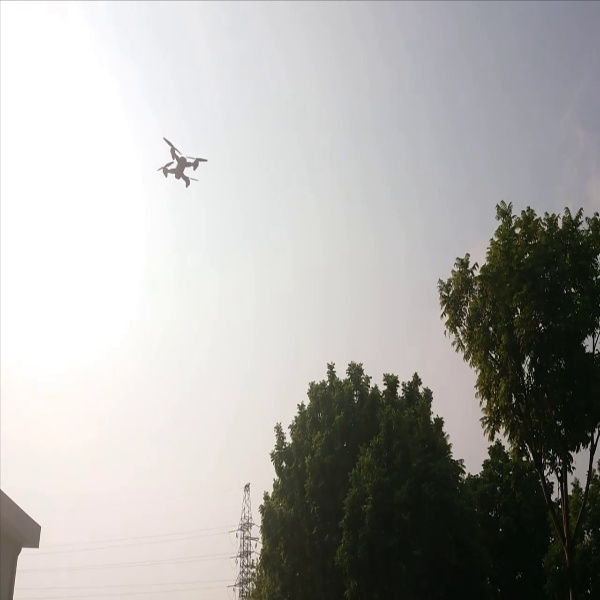drone: (151, 131, 216, 198)
